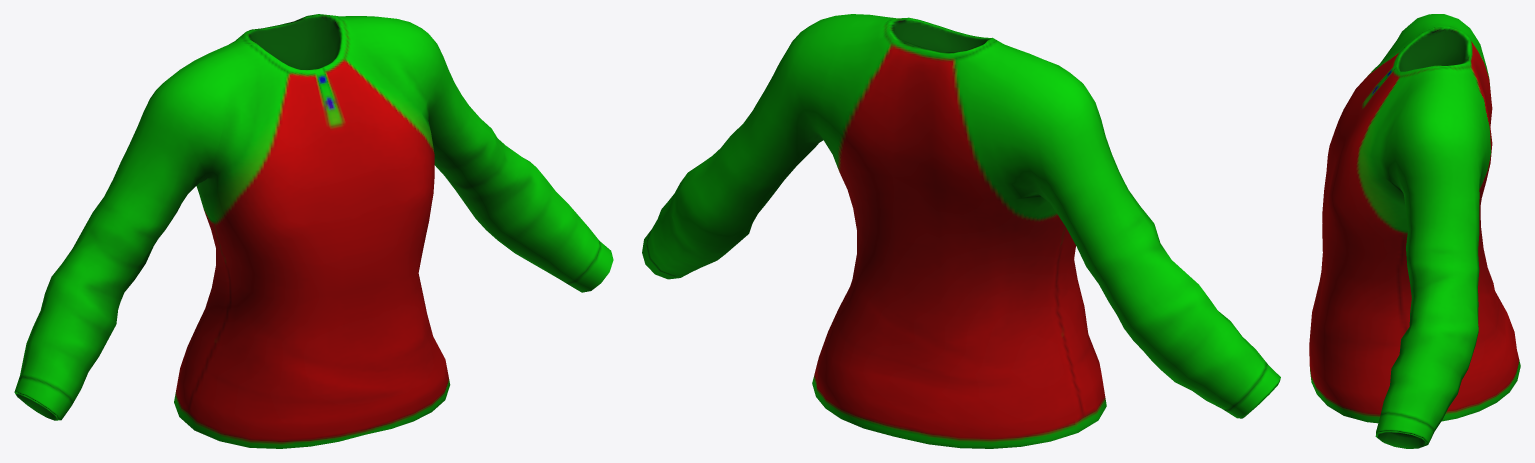
File: Top_Henley.obj
The picture shows the model from 3 angles, left to right: view 1: azimuth 30°, elevation 25°; view 2: azimuth 150°, elevation 25°; view 3: azimuth 270°, elevation 25°; orthographic projection. The views are drawn at different scales.
Parts seen in each view (by area): view 1: Top_Henley_0; view 2: Top_Henley_0; view 3: Top_Henley_0.
Part boxes in pixels (left/top/right/bottom): Top_Henley_0: left=14, top=14, right=613, bottom=448; Top_Henley_0: left=642, top=14, right=1280, bottom=448; Top_Henley_0: left=1309, top=14, right=1520, bottom=448.
Bounding box in the file's own units: 0.8368 × 0.4857 × 0.2852.
Materials: 1 (1 with a texture image).
